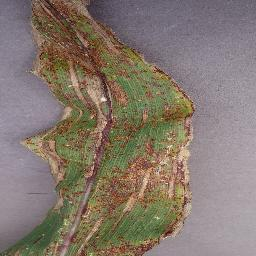Corn_Blight: (0, 59, 198, 256), (26, 0, 154, 60)
